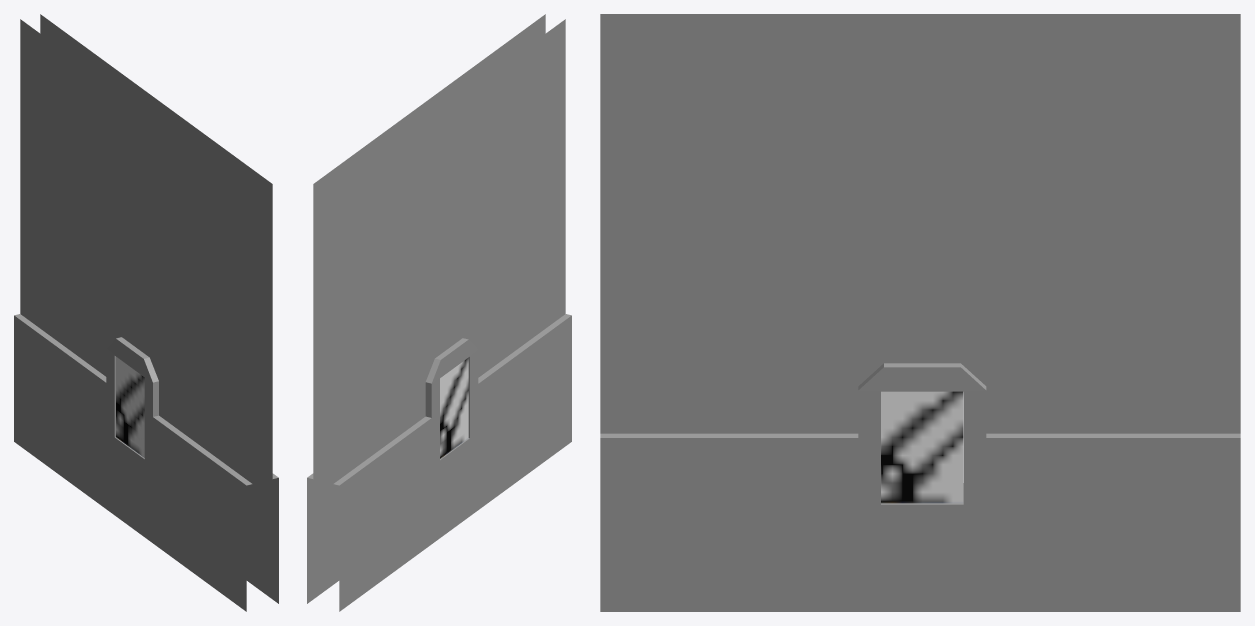
Rendered from MiddleWindow.fbx.
The picture shows the model from 3 angles, left to right: view 1: azimuth 30°, elevation 25°; view 2: azimuth 150°, elevation 25°; view 3: azimuth 270°, elevation 25°; orthographic projection. The views are drawn at different scales.
Parts seen in each view (by area): view 1: polySurface108; view 2: polySurface108; view 3: polySurface108.
Part boxes in pixels (x1,y1,x2,y2): polySurface108: [14, 14, 278, 611]; polySurface108: [307, 14, 571, 611]; polySurface108: [600, 14, 1240, 611].
Size of the model in its own units: 0.4006 by 5 by 5.
